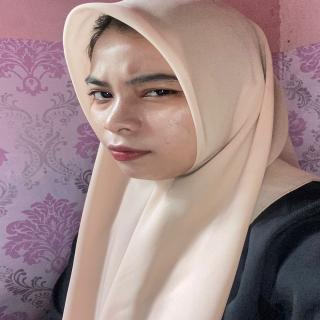Marah: (73, 19, 221, 186)
